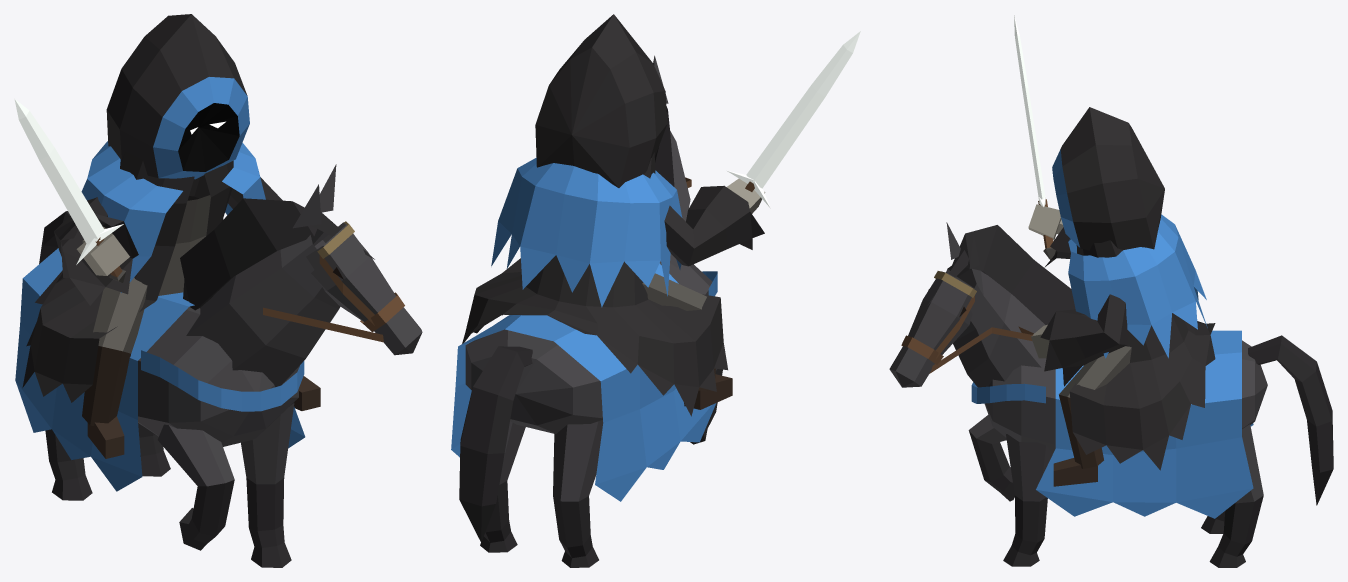
Rendered from khamul.glb.
3 renders of one model, left to right at view 1: azimuth 30°, elevation 25°; view 2: azimuth 150°, elevation 25°; view 3: azimuth 270°, elevation 25°, orthographic. The views are drawn at different scales.
Parts seen in each view (by area): view 1: khamul; view 2: khamul; view 3: khamul.
Boxes of the visible parts, left/top/right/bottom form: khamul: left=14, top=14, right=422, bottom=567; khamul: left=451, top=14, right=860, bottom=567; khamul: left=889, top=15, right=1333, bottom=567.
Size of the model in its own units: 1.18 by 1.7 by 1.55.
